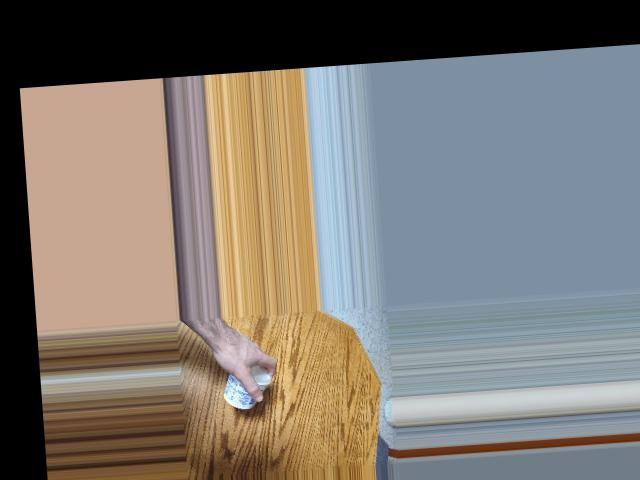cotage: (213, 356, 272, 408)
